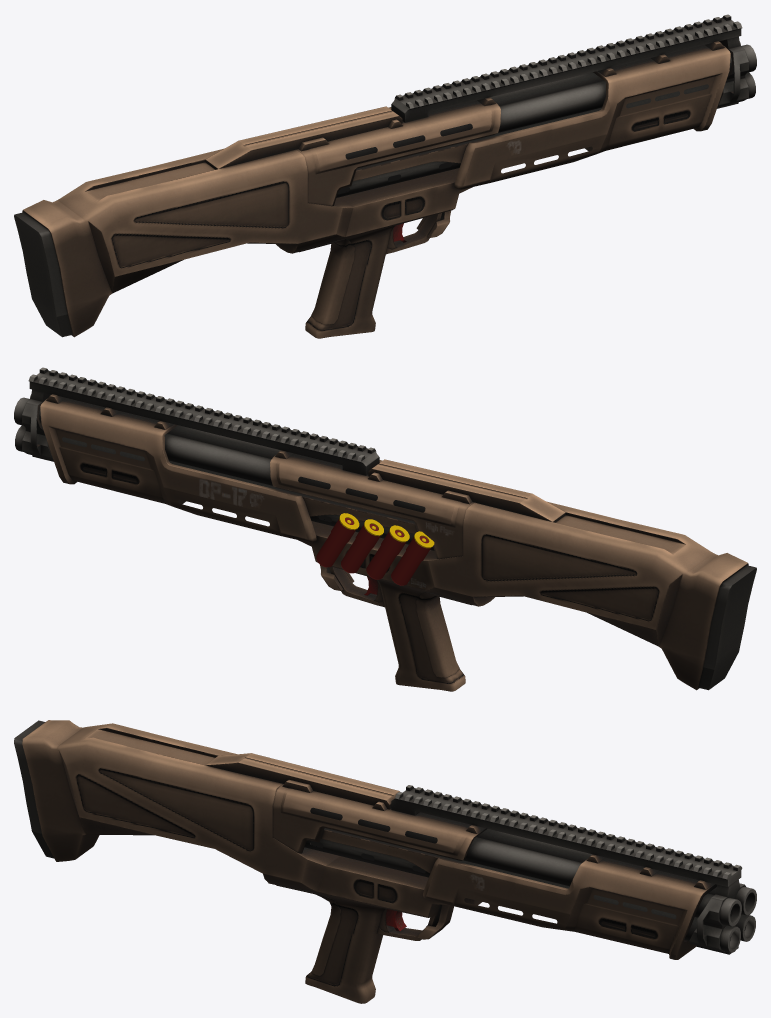
Rendered from weapon_6_0.obj.
The picture shows the model from 3 angles, top to bottom: view 1: azimuth 30°, elevation 25°; view 2: azimuth 150°, elevation 25°; view 3: azimuth 330°, elevation 25°; orthographic projection.
Visible parts, largest first — view 1: Cube.009_Cube.001; view 2: Cube.009_Cube.001; view 3: Cube.009_Cube.001.
Boxes of the visible parts, x1,y1,x2,y2 form: Cube.009_Cube.001: (14,14,756,338); Cube.009_Cube.001: (14,367,756,691); Cube.009_Cube.001: (14,720,756,1003).
Bounding box in the file's own units: 7.13 × 2.08 × 0.7841.
